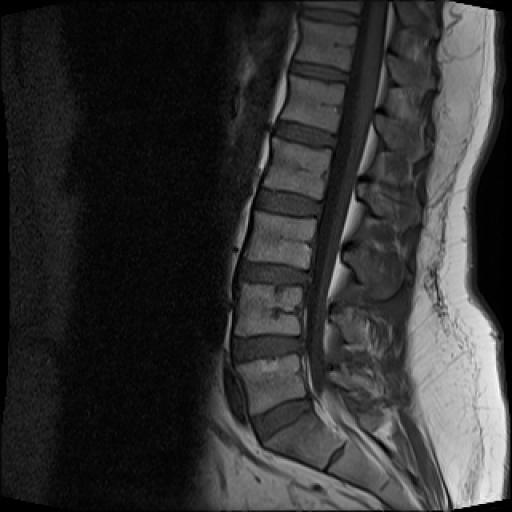L1: (281, 75, 345, 132)
L2: (263, 137, 332, 200)
L3: (247, 211, 316, 268)
L4: (234, 283, 303, 336)
L5: (238, 355, 305, 414)
S1: (261, 411, 342, 470)
